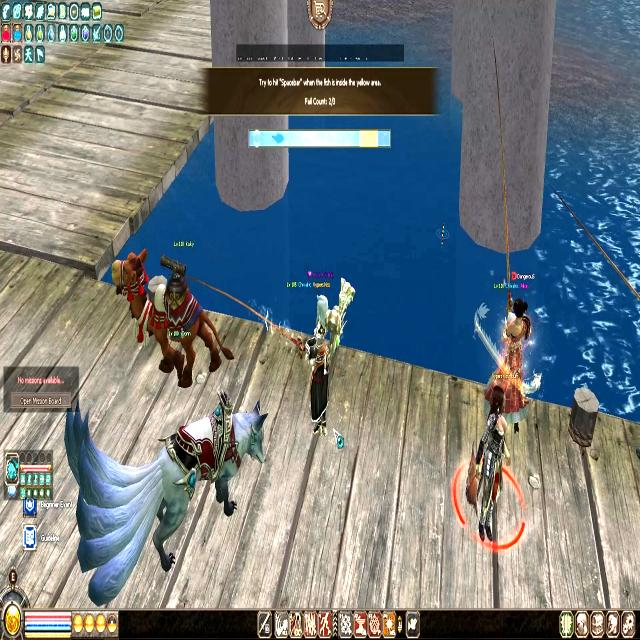fishes: (271, 132, 285, 144)
